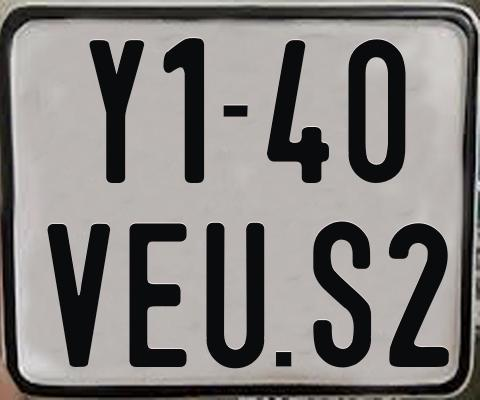0: (348, 36, 409, 181)
1: (161, 36, 208, 187)
2: (388, 221, 449, 365)
4: (266, 38, 332, 183)
E: (127, 220, 188, 369)
S: (311, 221, 374, 372)
U: (204, 220, 265, 366)
V: (47, 222, 114, 371)
Y: (86, 38, 146, 184)
